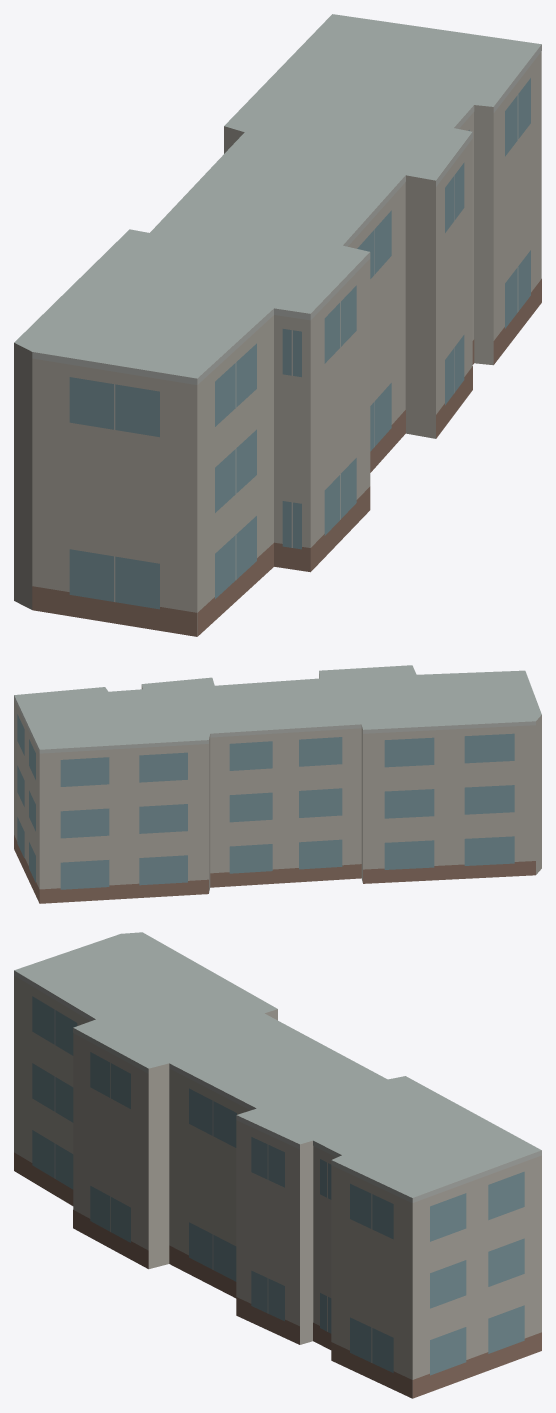
The model's file is survey-upis-32640193.glb.
3 renders of one model, top to bottom at view 1: azimuth 30°, elevation 25°; view 2: azimuth 150°, elevation 25°; view 3: azimuth 270°, elevation 25°, orthographic. The views are drawn at different scales.
Visible parts, largest first — view 1: survey-upis-32640193.tmp; view 2: survey-upis-32640193.tmp; view 3: survey-upis-32640193.tmp.
Part boxes in pixels (left/top/right/bottom): survey-upis-32640193.tmp: left=14, top=14, right=541, bottom=636; survey-upis-32640193.tmp: left=14, top=665, right=541, bottom=903; survey-upis-32640193.tmp: left=14, top=932, right=541, bottom=1398.
Size of the model in its own units: 27.29 by 9.6 by 22.9.
